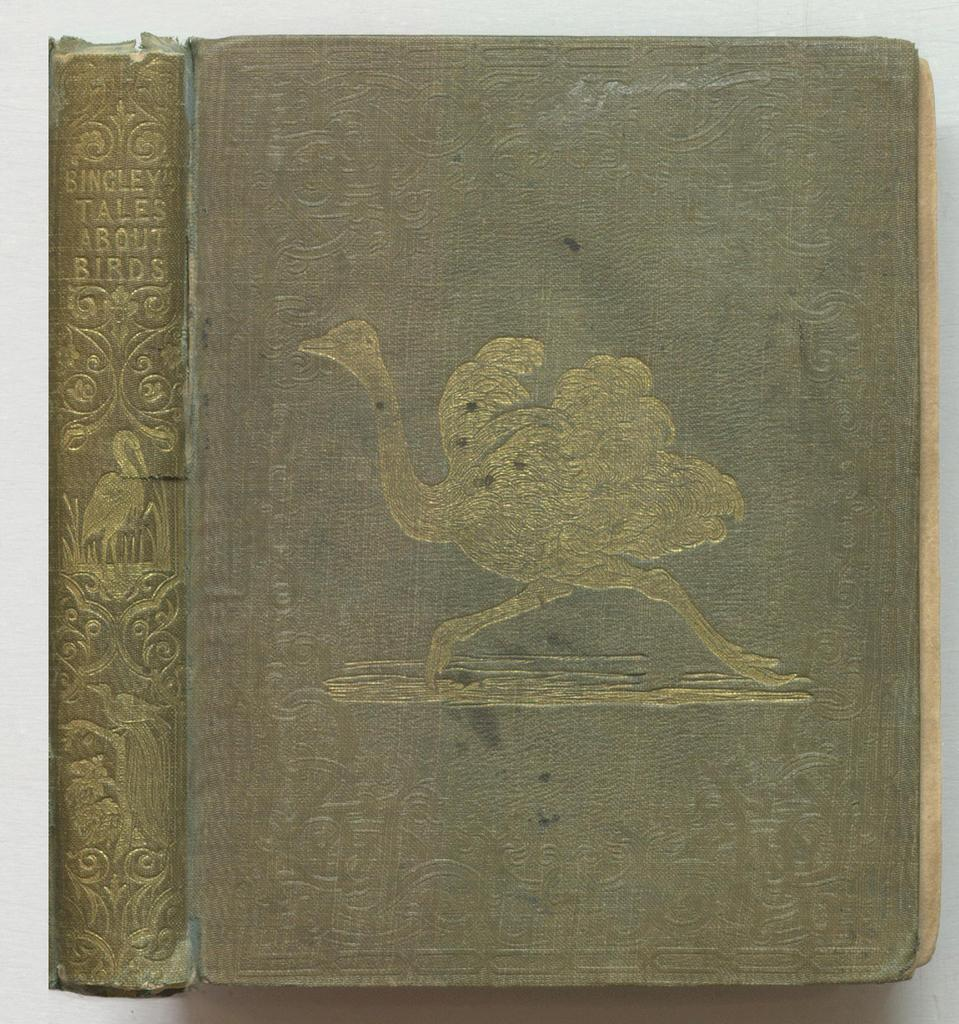book: (41, 28, 947, 988)
